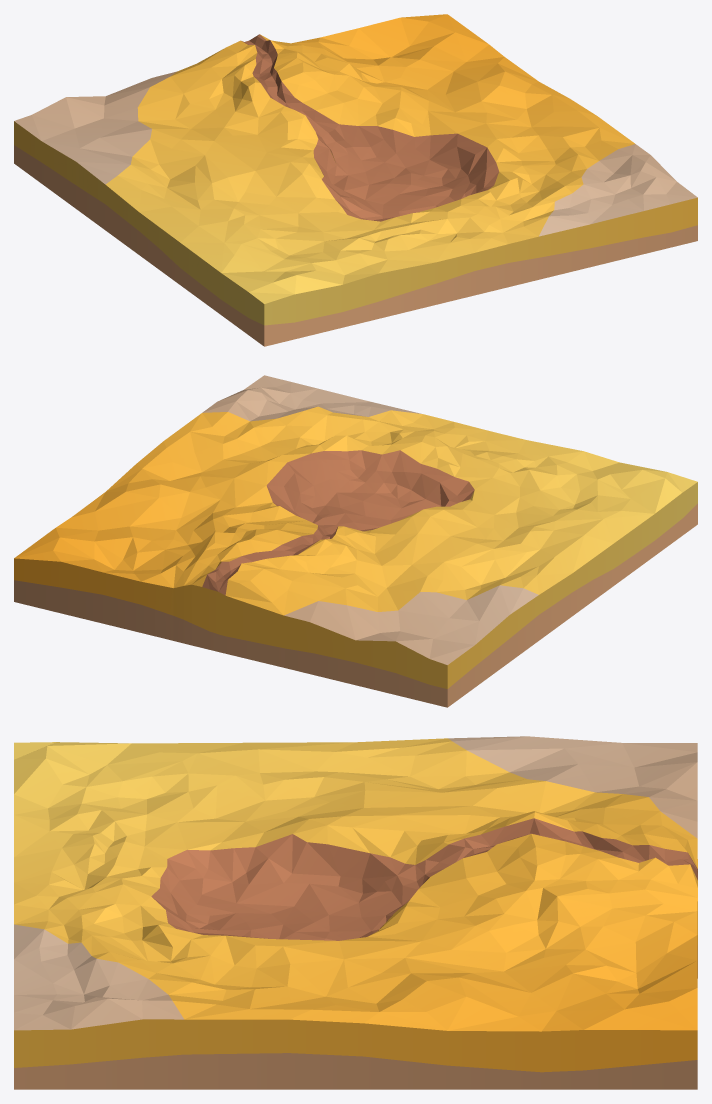
File: land autumn atmosphere forest.fbx
3 renders of one model, top to bottom at view 1: azimuth 30°, elevation 25°; view 2: azimuth 150°, elevation 25°; view 3: azimuth 270°, elevation 25°, orthographic. The views are drawn at different scales.
Parts seen in each view (by area): view 1: land autumn atmosphere forest; view 2: land autumn atmosphere forest; view 3: land autumn atmosphere forest.
Boxes of the visible parts, bbox=[...] form: land autumn atmosphere forest: bbox=[14, 14, 697, 346]; land autumn atmosphere forest: bbox=[14, 375, 697, 707]; land autumn atmosphere forest: bbox=[14, 736, 697, 1089].
Size of the model in its own units: 4498 by 797 by 4502.
